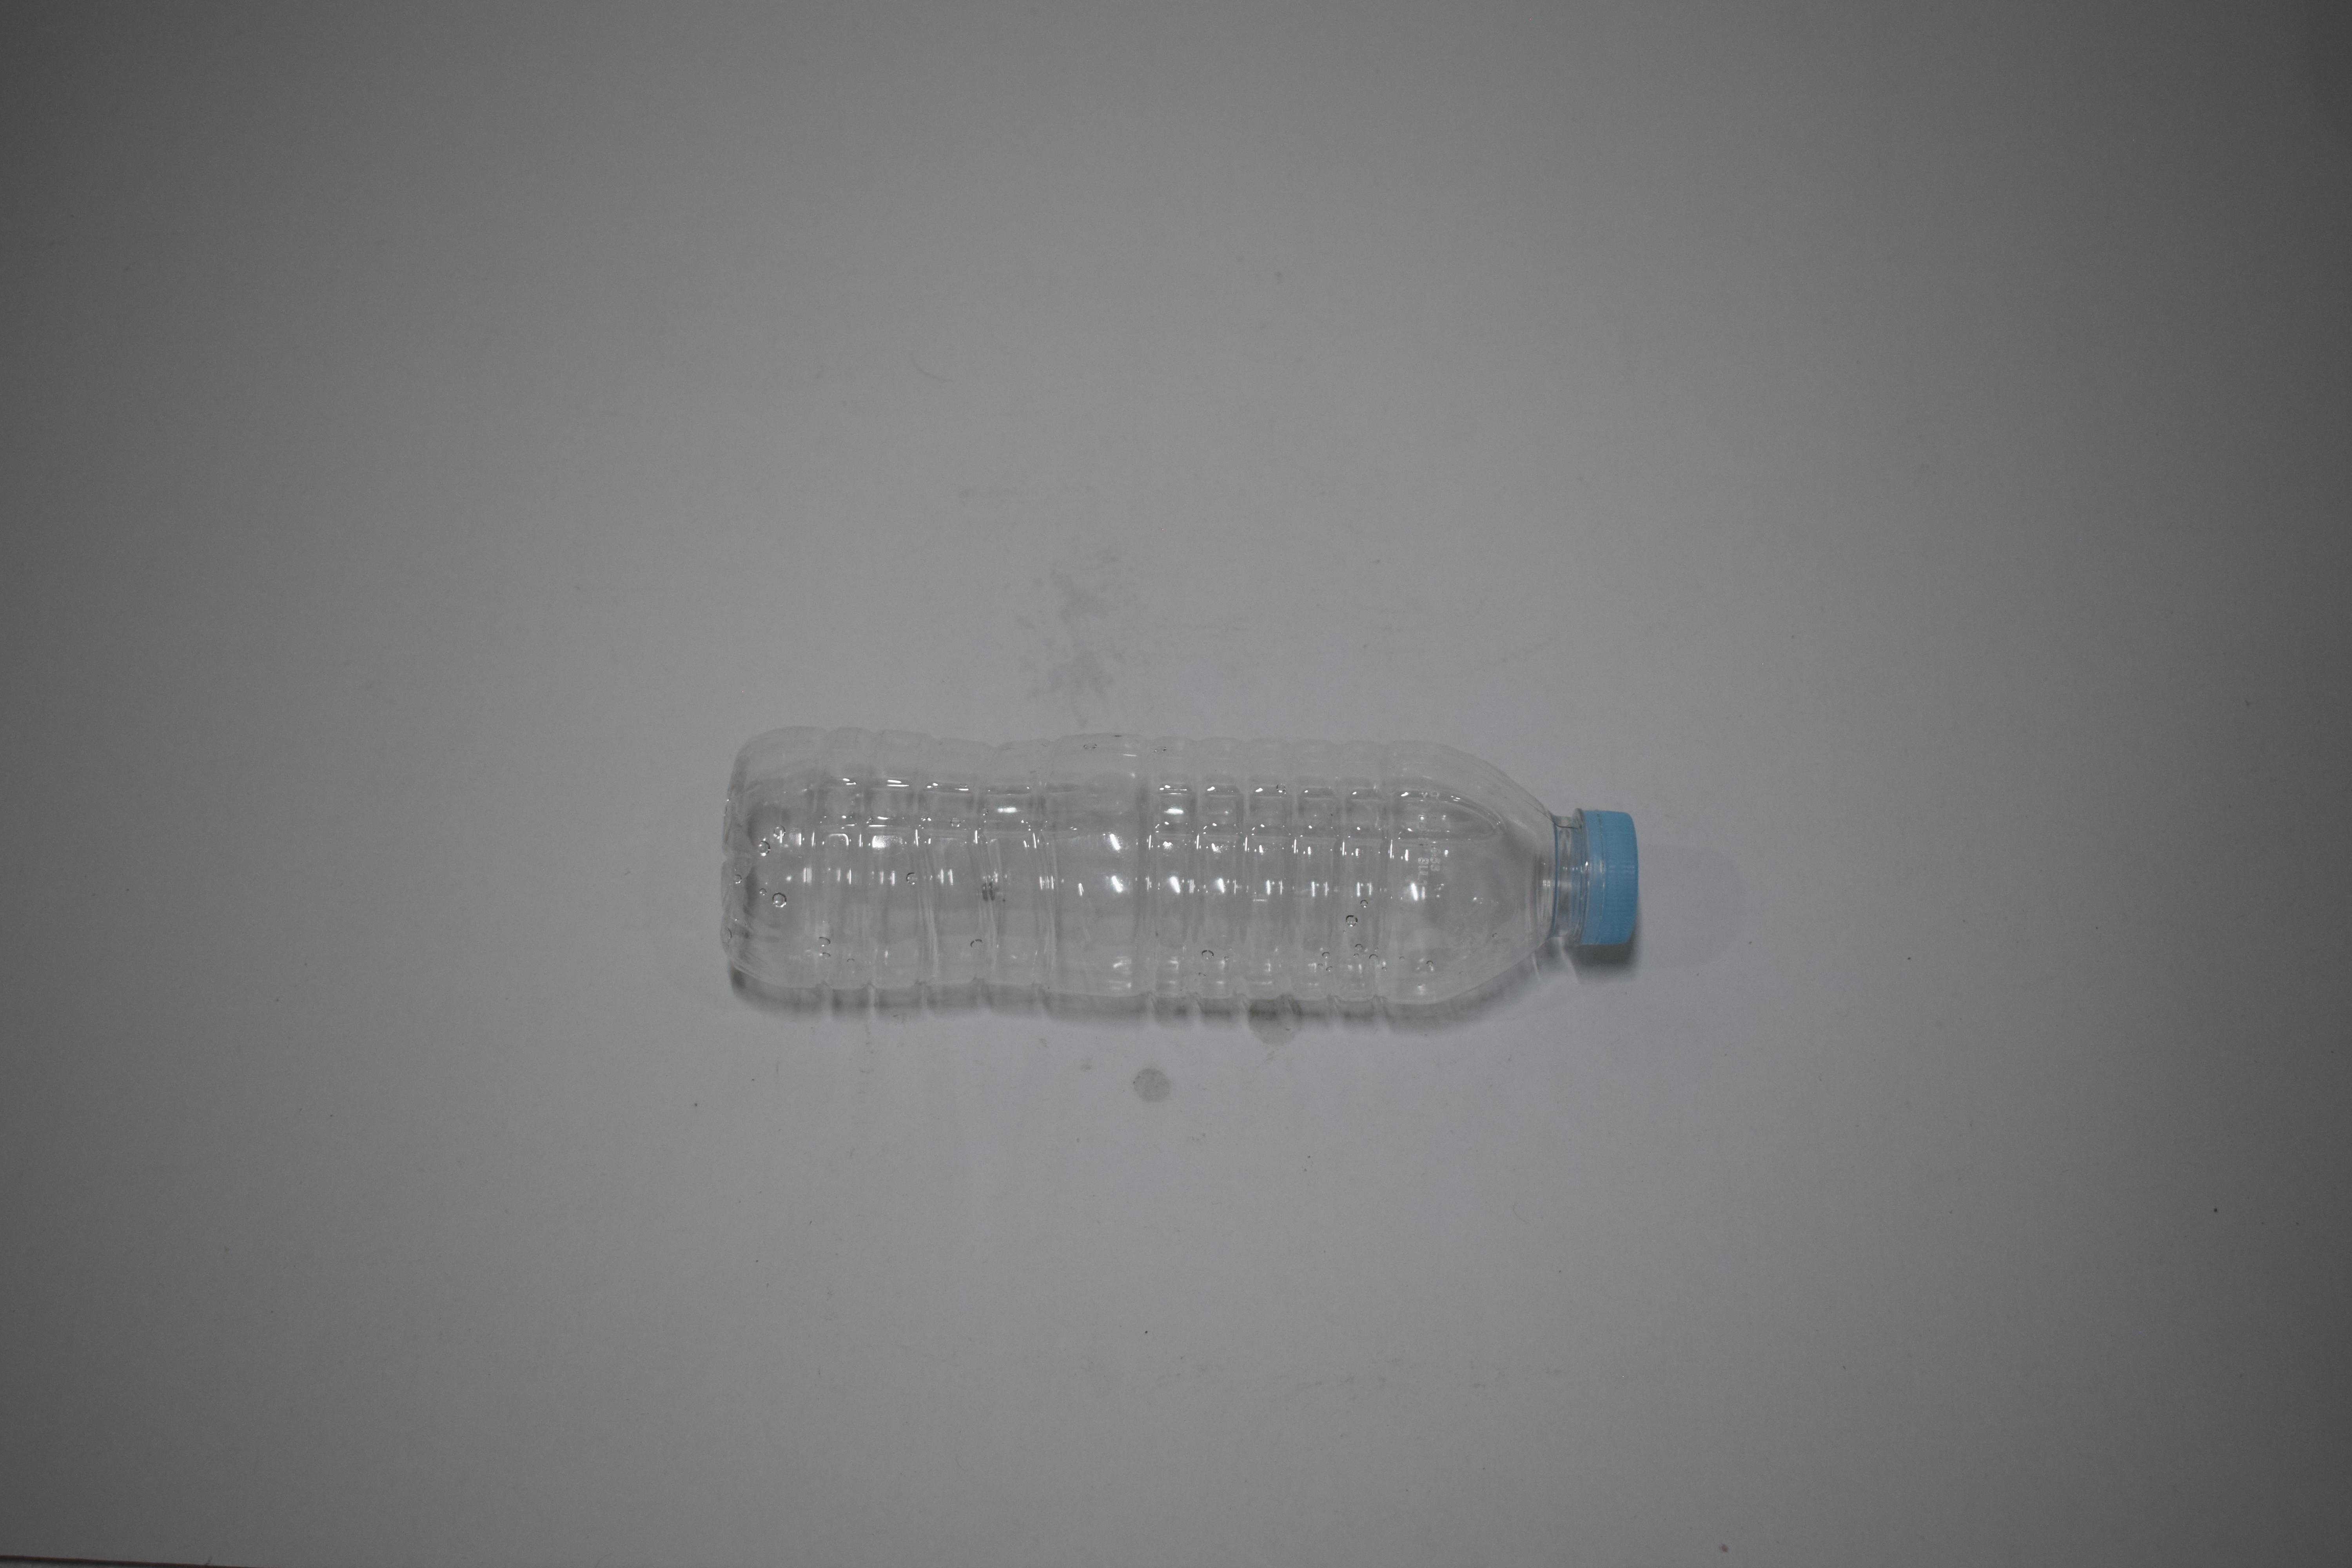bottle: (0, 0, 471, 157)
